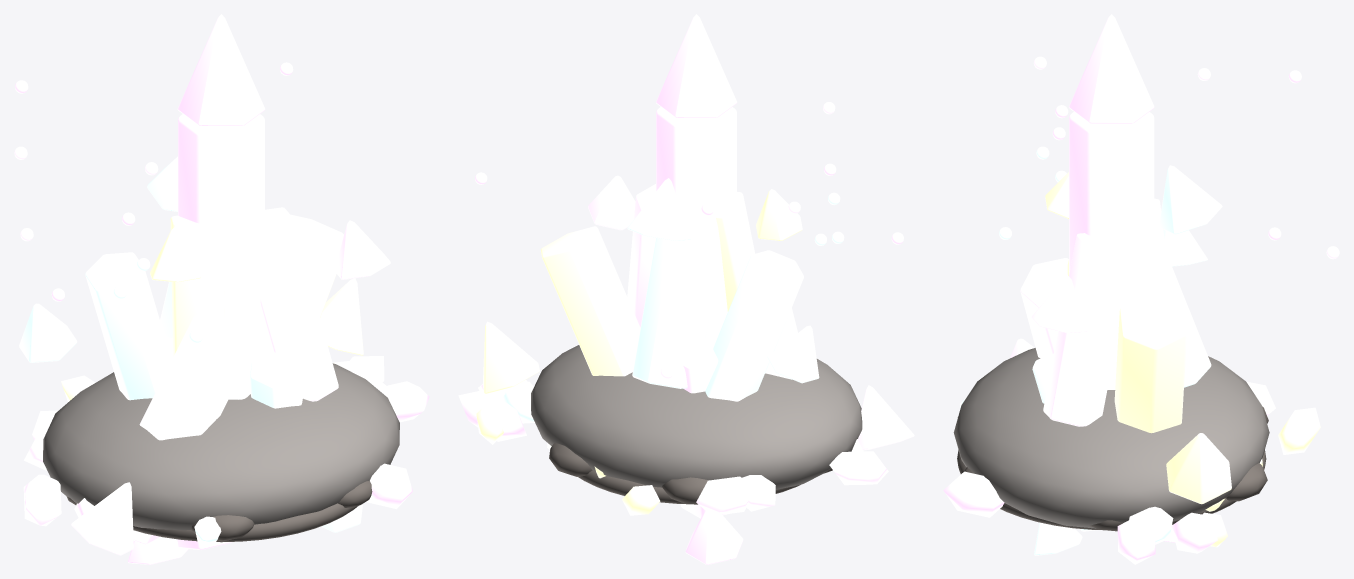
The model's file is magic_crystal_cluster.glb.
The picture shows the model from 3 angles, left to right: view 1: azimuth 30°, elevation 25°; view 2: azimuth 150°, elevation 25°; view 3: azimuth 270°, elevation 25°; orthographic projection. The views are drawn at different scales.
Parts seen in each view (by area): view 1: magic_crystal_cluster; view 2: magic_crystal_cluster; view 3: magic_crystal_cluster.
Part boxes in pixels (x1=…): magic_crystal_cluster: x1=14, y1=14, x2=429, y2=564; magic_crystal_cluster: x1=458, y1=14, x2=914, y2=564; magic_crystal_cluster: x1=943, y1=14, x2=1339, y2=564.
Size of the model in its own units: 2.14 by 2.71 by 1.79.
